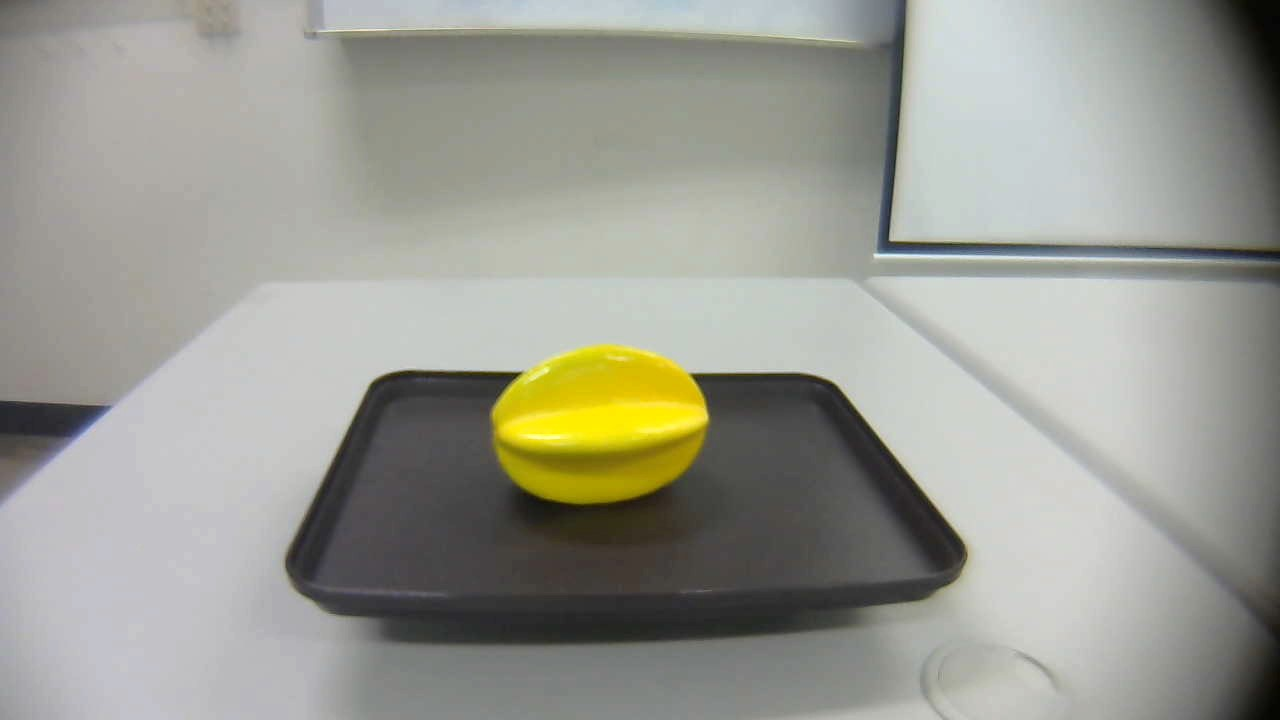star fruit: (481, 340, 718, 514)
